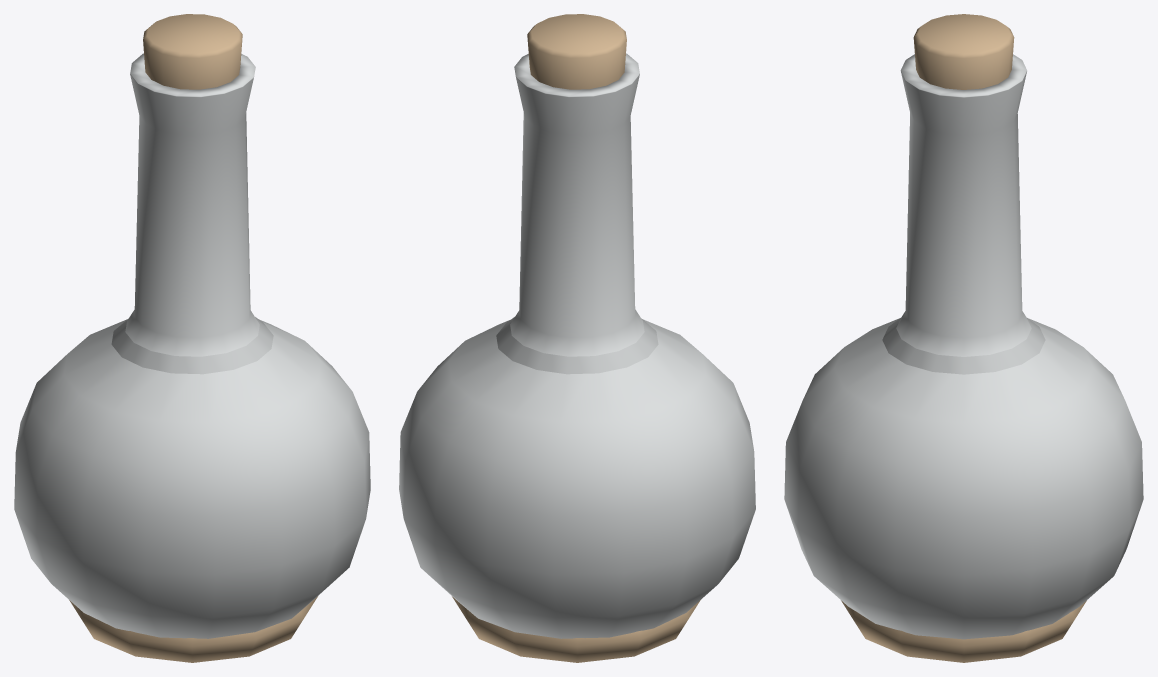
Rendered from bottle_roundflask_lod2.glb.
3 renders of one model, left to right at view 1: azimuth 30°, elevation 25°; view 2: azimuth 150°, elevation 25°; view 3: azimuth 270°, elevation 25°, orthographic.
Visible parts, largest first — view 1: Glass, Cap, Stand; view 2: Glass, Cap, Stand; view 3: Glass, Cap, Stand.
Part boxes in pixels (x1=…): Glass: x1=14, y1=53, x2=370, y2=638; Cap: x1=143, y1=14, x2=242, y2=89; Stand: x1=69, y1=596, x2=317, y2=662; Glass: x1=399, y1=53, x2=755, y2=638; Cap: x1=527, y1=14, x2=626, y2=89; Stand: x1=452, y1=596, x2=700, y2=662; Glass: x1=784, y1=54, x2=1143, y2=639; Cap: x1=913, y1=14, x2=1014, y2=89; Stand: x1=841, y1=600, x2=1086, y2=662.
Bounding box in the file's own units: 0.087 × 0.156 × 0.0868.
